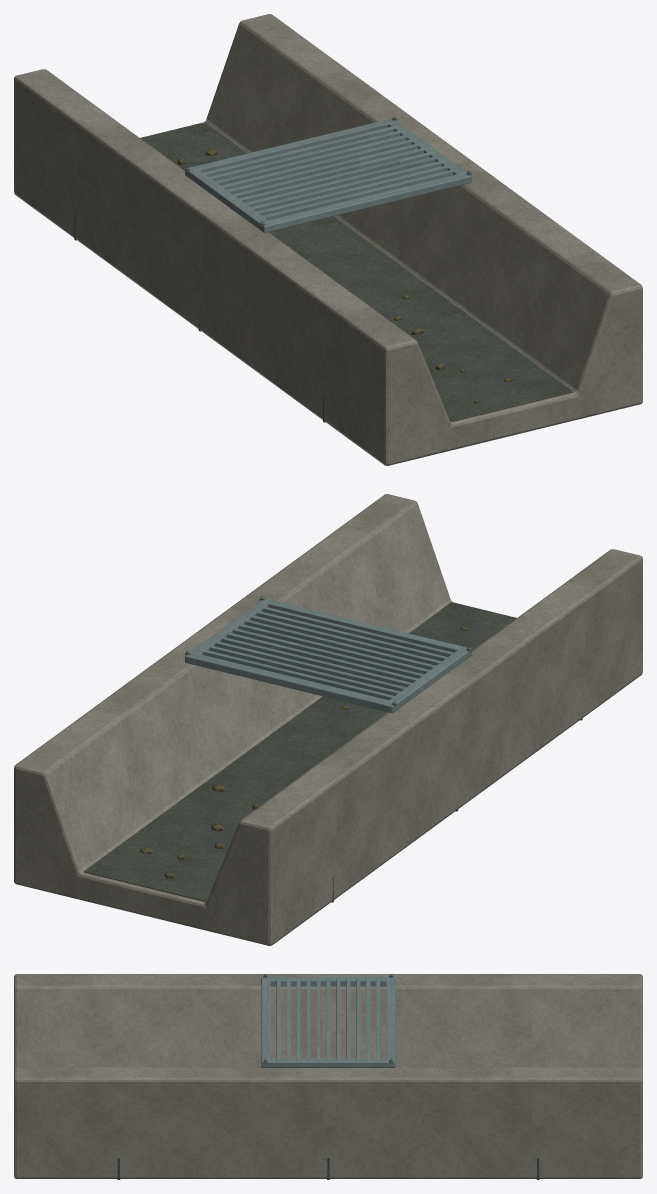
3 views of the same model, one above another, from view 1: azimuth 30°, elevation 25°; view 2: azimuth 150°, elevation 25°; view 3: azimuth 270°, elevation 25° (orthographic). The views are drawn at different scales.
Parts seen in each view (by area): view 1: TF3_KR_R05; view 2: TF3_KR_R05; view 3: TF3_KR_R05.
Part boxes in pixels (left/top/right/bottom): TF3_KR_R05: left=14, top=14, right=642, bottom=465; TF3_KR_R05: left=14, top=494, right=642, bottom=945; TF3_KR_R05: left=14, top=974, right=642, bottom=1179.
Bounding box in the file's own units: 1.2 × 0.576 × 3.
Materials: 5 (3 with a texture image).
